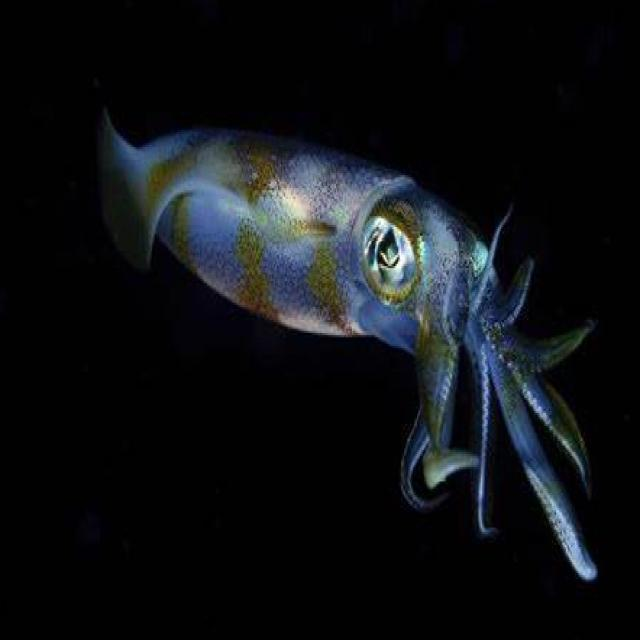SQUID: (71, 71, 612, 604)
